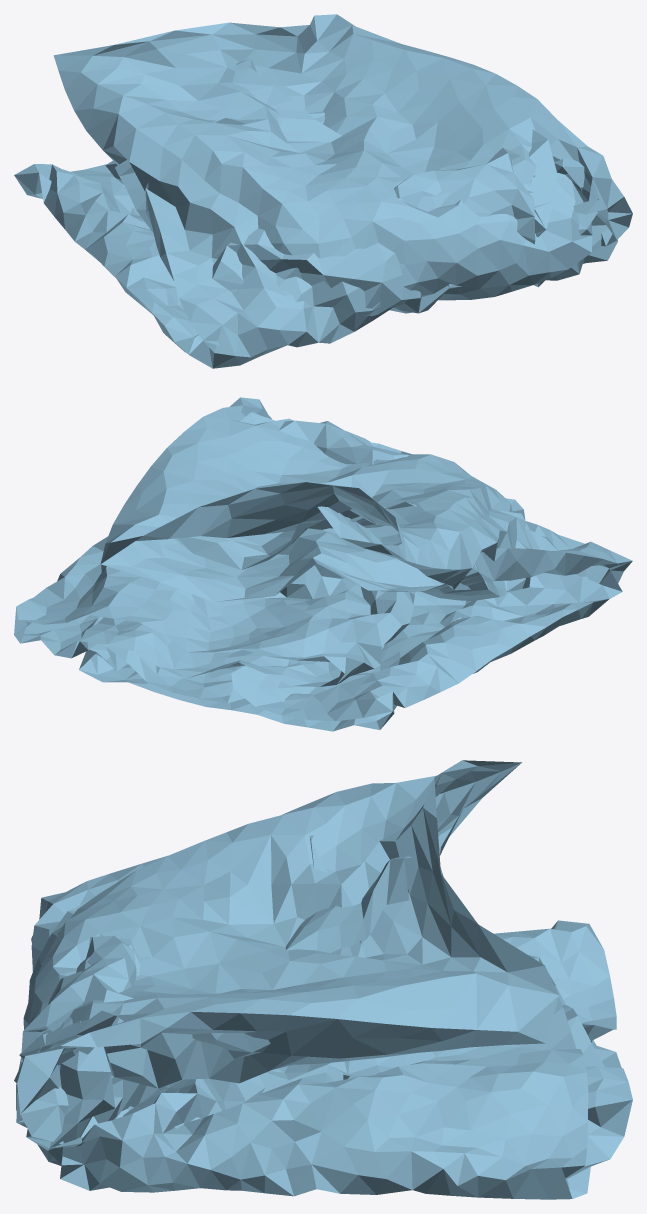
The model's file is frame_18.glb.
3 views of the same model, one above another, from view 1: azimuth 30°, elevation 25°; view 2: azimuth 150°, elevation 25°; view 3: azimuth 270°, elevation 25° (orthographic). The views are drawn at different scales.
Parts seen in each view (by area): view 1: frame_18.obj; view 2: frame_18.obj; view 3: frame_18.obj.
Part boxes in pixels (left/top/right/bottom): frame_18.obj: left=14, top=14, right=632, bottom=368; frame_18.obj: left=14, top=397, right=632, bottom=731; frame_18.obj: left=14, top=760, right=632, bottom=1199.
Bounding box in the file's own units: 1 × 0.4363 × 0.9604.
